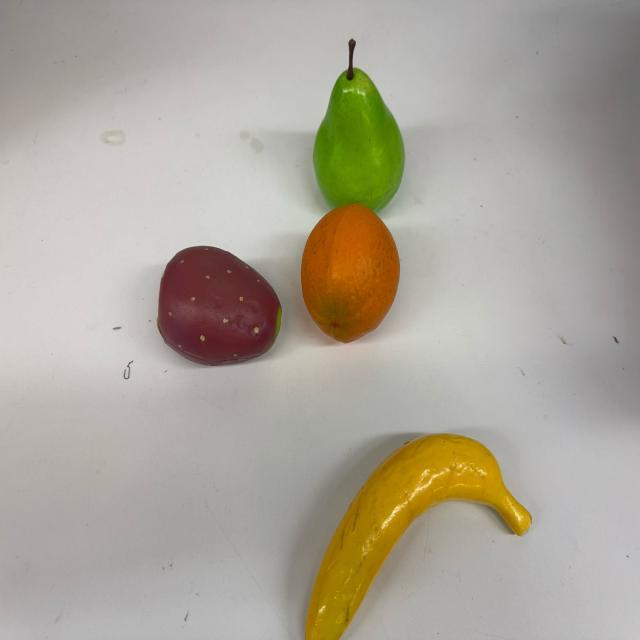banana: (303, 431, 532, 640)
orange: (301, 202, 399, 342)
pear: (312, 39, 404, 212)
tuna: (157, 247, 285, 366)
